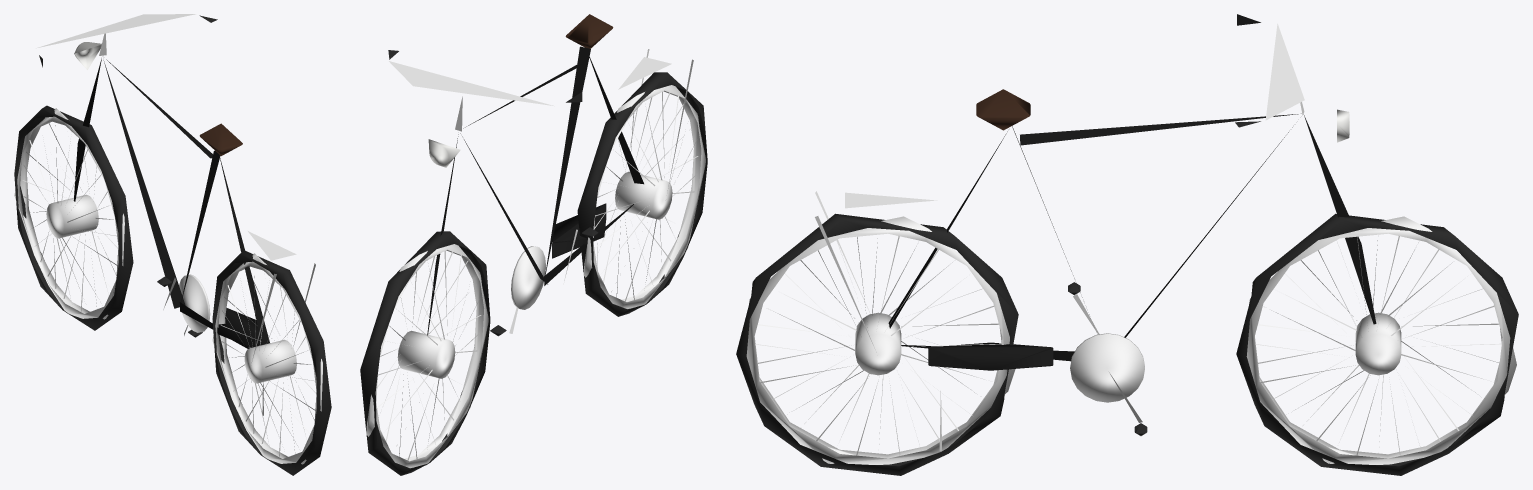
Rendered from cycle_0_lo.glb.
3 views of the same model, side by side, from view 1: azimuth 30°, elevation 25°; view 2: azimuth 150°, elevation 25°; view 3: azimuth 270°, elevation 25° (orthographic). The views are drawn at different scales.
Parts seen in each view (by area): view 1: body, wheel_0, wheel_1; view 2: wheel_0, wheel_1, body; view 3: wheel_0, wheel_1, body.
Boxes of the visible parts, x1,y1,x2,y2 form: body: (36,14,315,415); wheel_0: (14,105,133,330); wheel_1: (212,251,331,475); wheel_0: (360,231,490,475); wheel_1: (577,72,707,316); body: (388,14,693,336); wheel_0: (1236,213,1518,475); wheel_1: (736,213,1018,475); body: (815,14,1376,450).
Bounding box in the file's own units: 0.6152 × 1.08 × 1.88.
